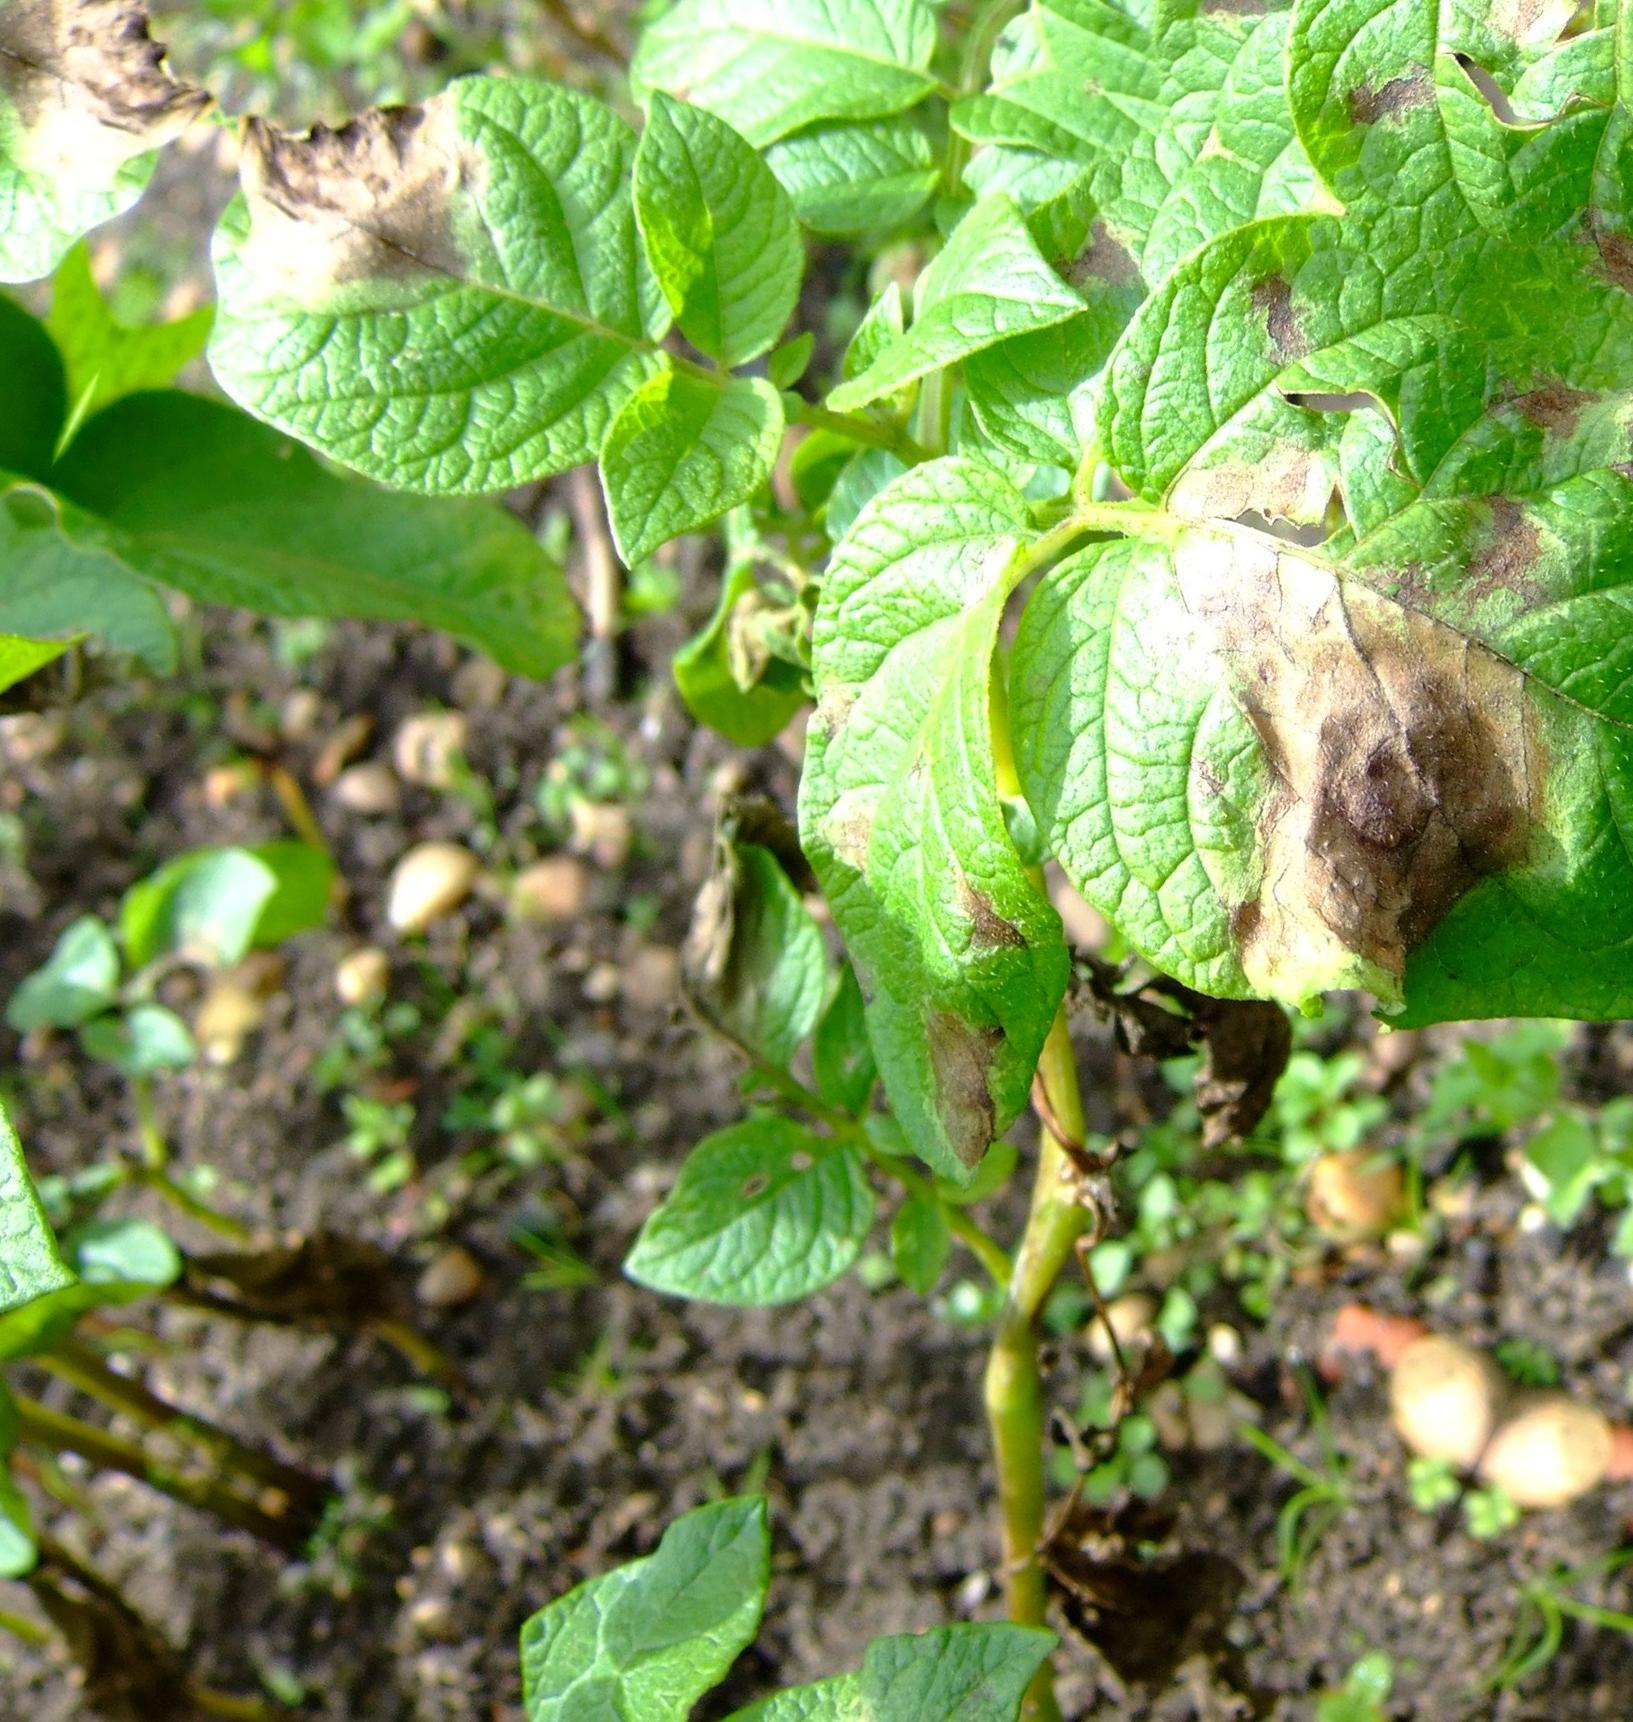Tomato leaf late blight: (882, 152, 1633, 1197)
